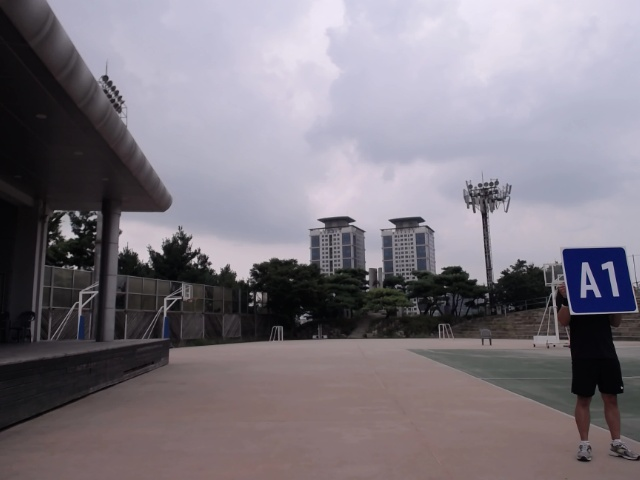delivery_a1: (562, 247, 638, 314)
